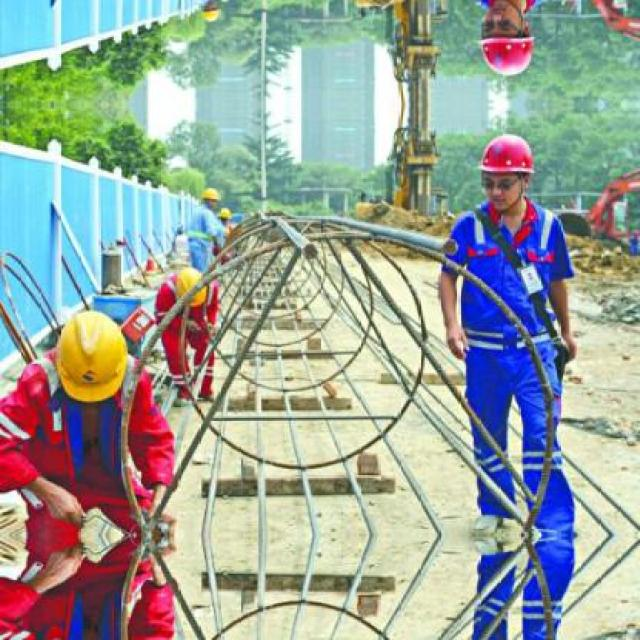helmet: (52, 306, 136, 406), (474, 126, 540, 212), (473, 0, 541, 83), (168, 264, 210, 308), (198, 2, 220, 26), (198, 184, 220, 206), (214, 201, 232, 223), (213, 0, 232, 9)
